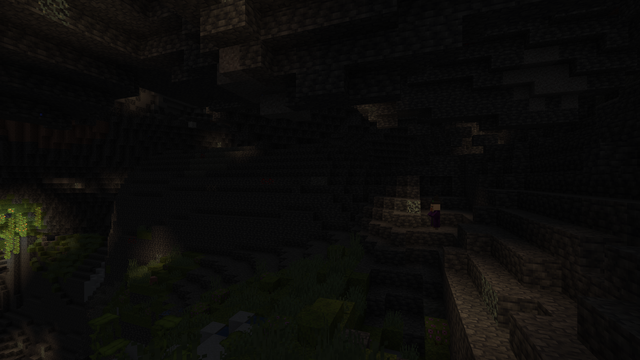cochons: (148, 274, 156, 285)
sorcieres: (430, 202, 439, 230)
